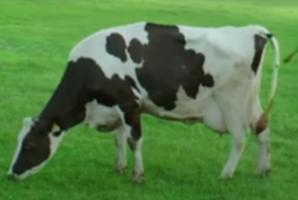cow: (7, 25, 280, 182)
